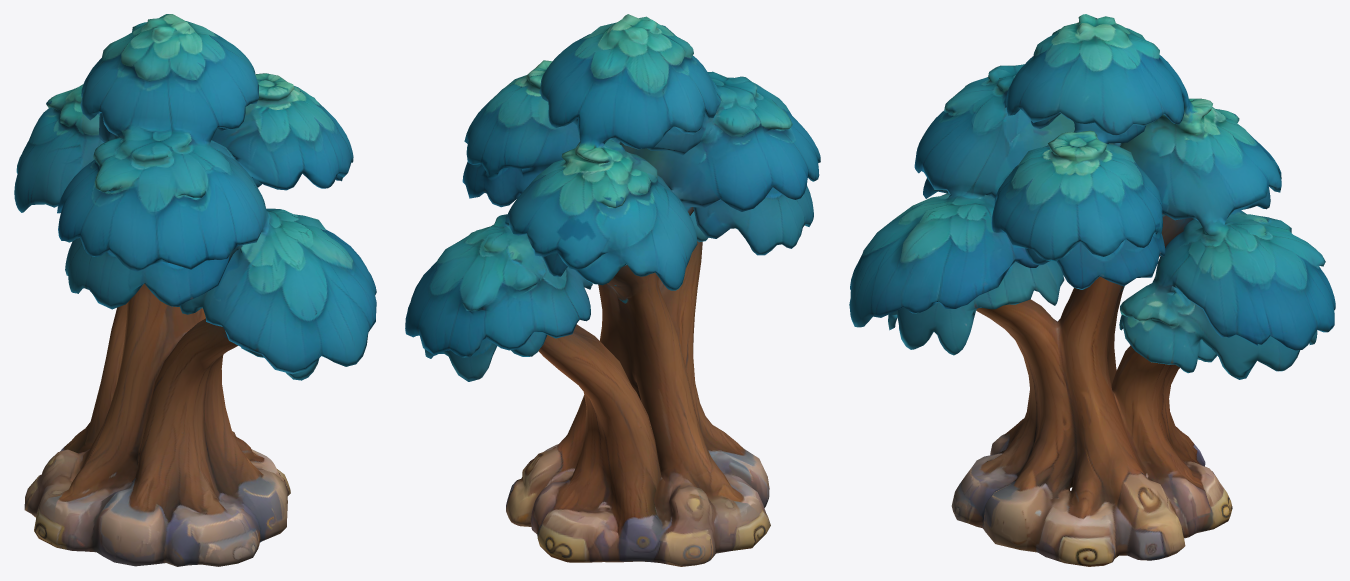
The model's file is 09-garden-teal-dome-tree.glb.
The picture shows the model from 3 angles, left to right: view 1: azimuth 30°, elevation 25°; view 2: azimuth 150°, elevation 25°; view 3: azimuth 270°, elevation 25°; orthographic projection.
Parts seen in each view (by area): view 1: tripo_node_a473a8bf; view 2: tripo_node_a473a8bf; view 3: tripo_node_a473a8bf.
Boxes of the visible parts, x1,y1,x2,y2 form: tripo_node_a473a8bf: (14,14,376,566); tripo_node_a473a8bf: (405,14,820,566); tripo_node_a473a8bf: (849,14,1335,566).
Bounding box in the file's own units: 0.2511 × 0.4 × 0.3494.
1 material, 1 textured.
